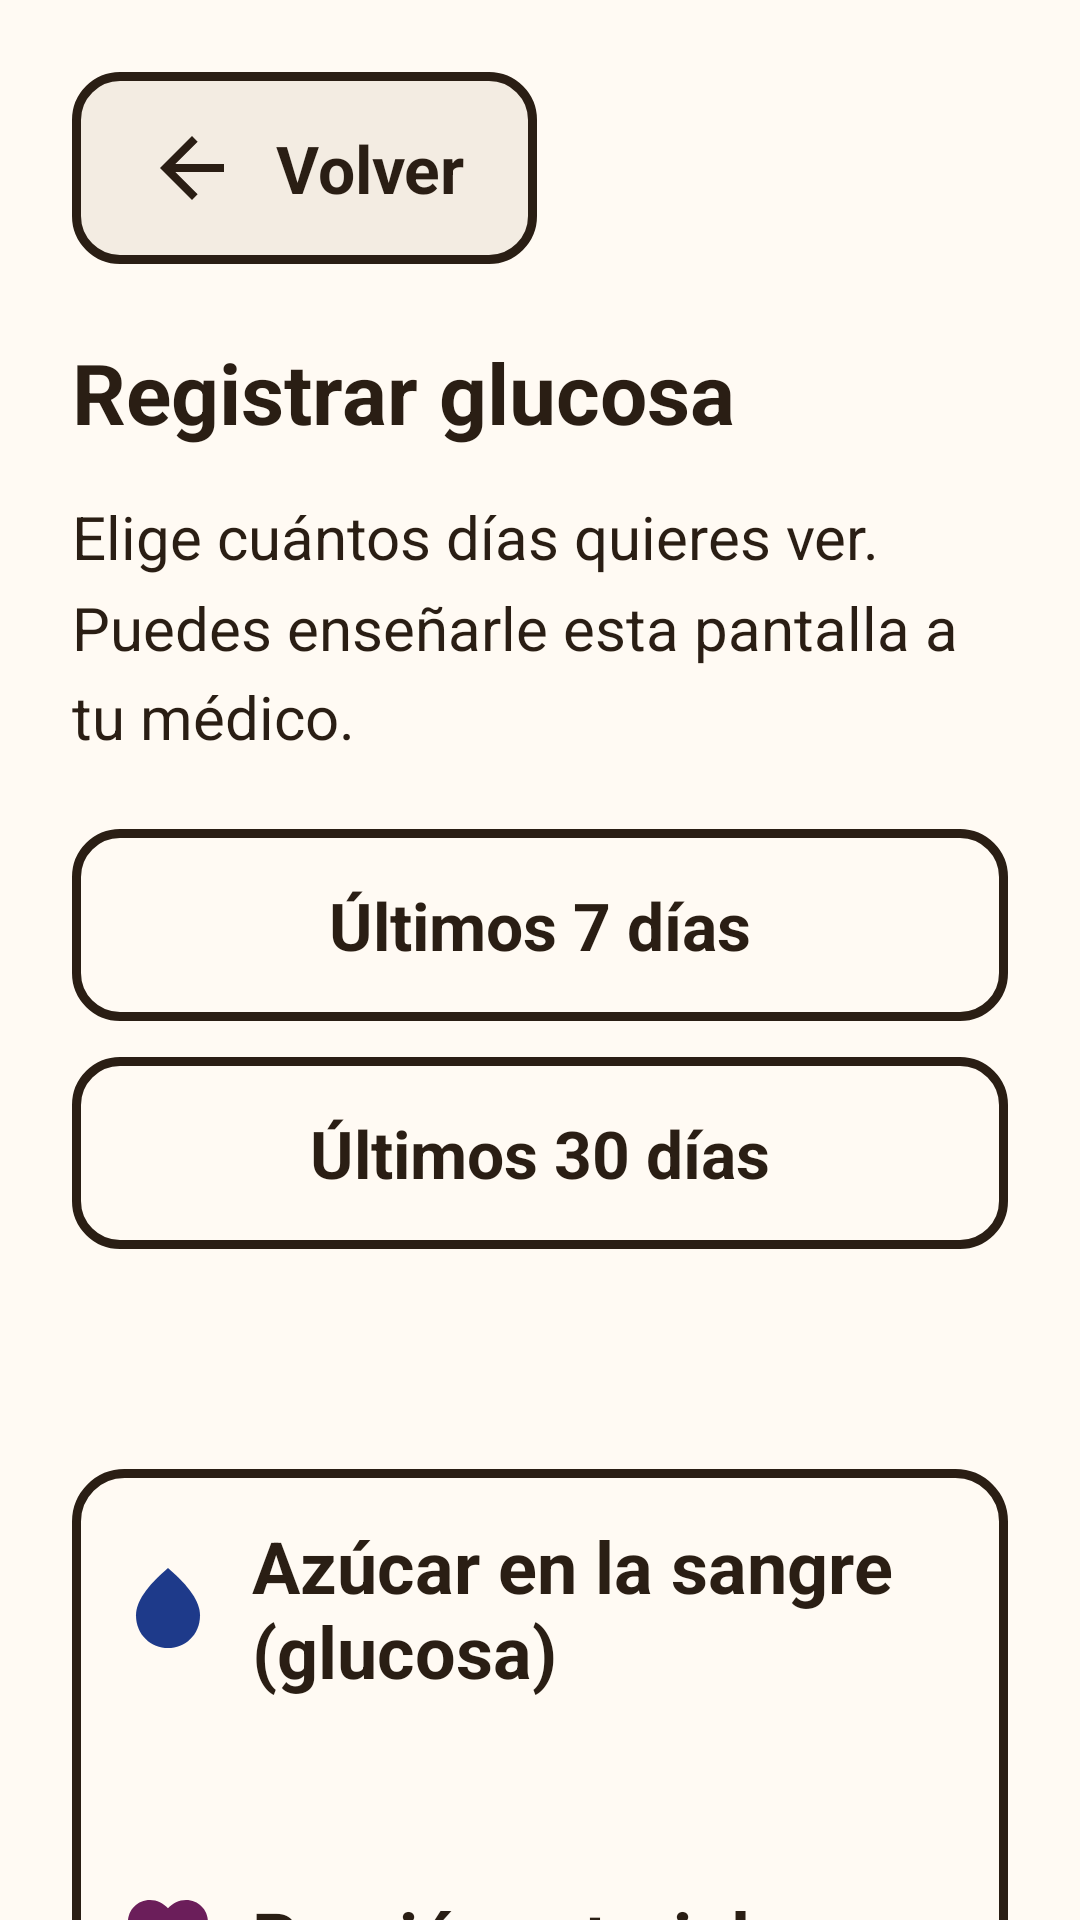

Icons on this 1080x1920 Android screen, each with its box as BBox(x1, y1, x2, y2):
glucose drop: BBox(136, 1568, 200, 1648)
